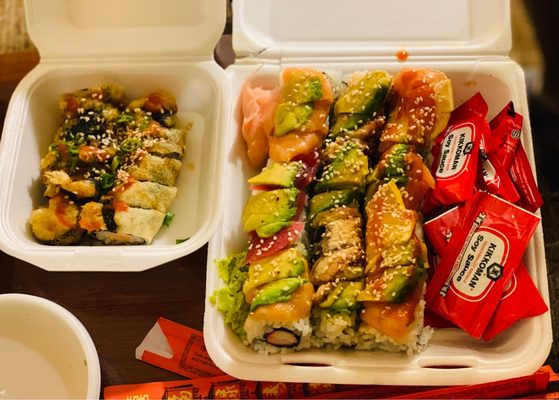sushi: (1, 56, 225, 274), (0, 293, 101, 397)
